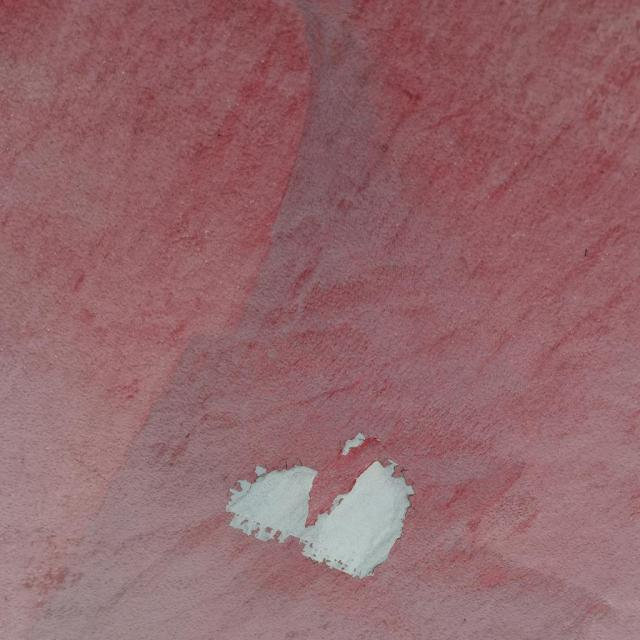surface_peeling: (232, 428, 416, 583)
